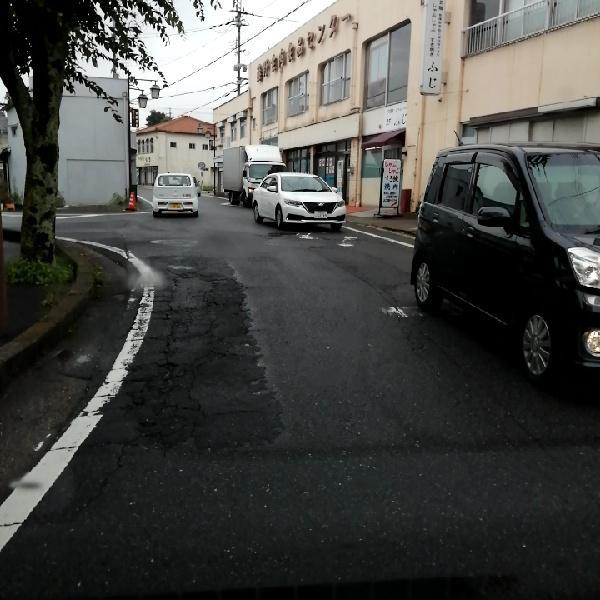D20: (118, 266, 264, 458)
D44: (37, 275, 158, 460)
